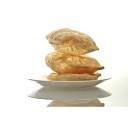poori: (47, 26, 100, 54), (44, 52, 105, 73), (46, 69, 102, 81)
